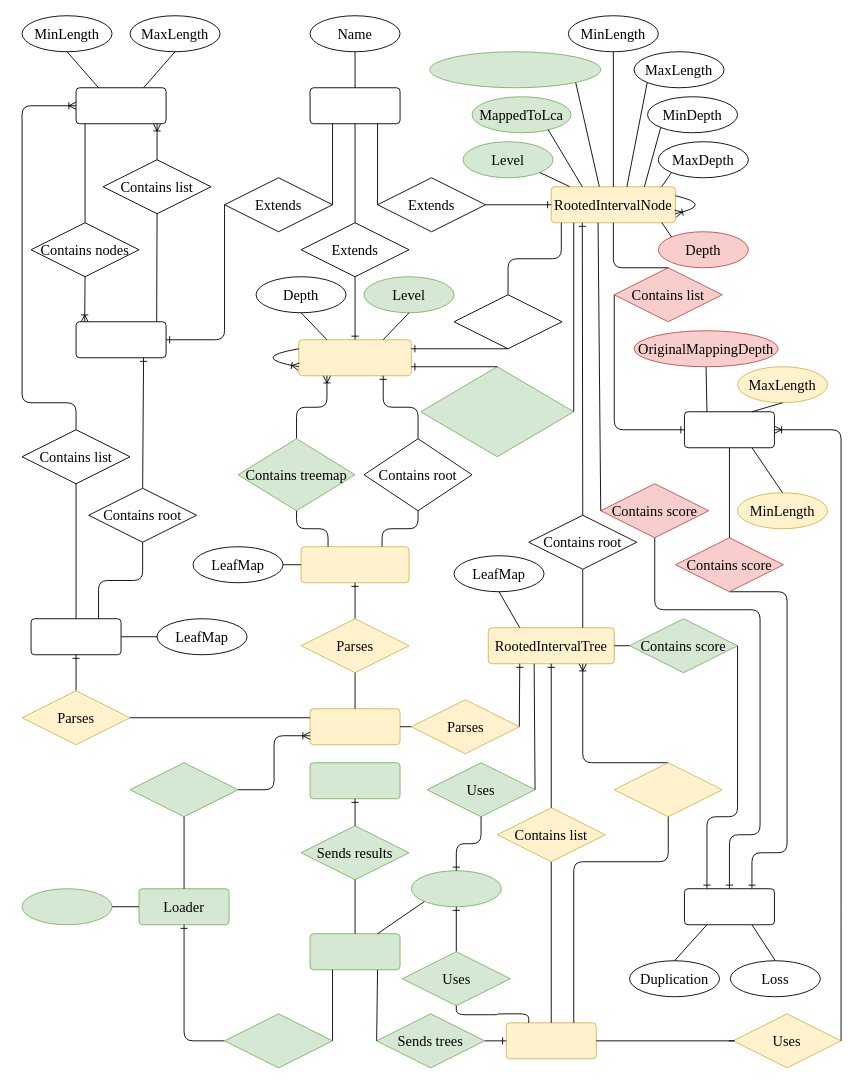
This 864x1084 diagram has some shape labels left out. The centre of each missing label's shape, as x and y in pixels:
"Arguments" goes at (x=66, y=906).
"Calls" goes at (x=183, y=789).
"Contains LCA" goes at (x=507, y=321).
"Contains SpeciesNodeBelow" goes at (x=497, y=411).
"Creates" goes at (x=667, y=789).
"DL" goes at (x=729, y=906).
"Edge" goes at (x=120, y=105).
"Epsilon" goes at (x=455, y=888).
"Interval" goes at (x=729, y=429).
"LevelDistanceFromParent" goes at (x=515, y=69).
"Main" goes at (x=354, y=951).
"Node" goes at (x=354, y=105).
"Parser" goes at (x=354, y=726).
"Printer" goes at (x=354, y=780).
"Reconciliator" goes at (x=550, y=1040).
"RootedExactNode" goes at (x=354, y=357).
"RootedExactTree" goes at (x=354, y=564).
"Sends arguments" goes at (x=278, y=1040).
"UnrootedNode" goes at (x=120, y=339).
"UnrootedTree" goes at (x=75, y=636).
